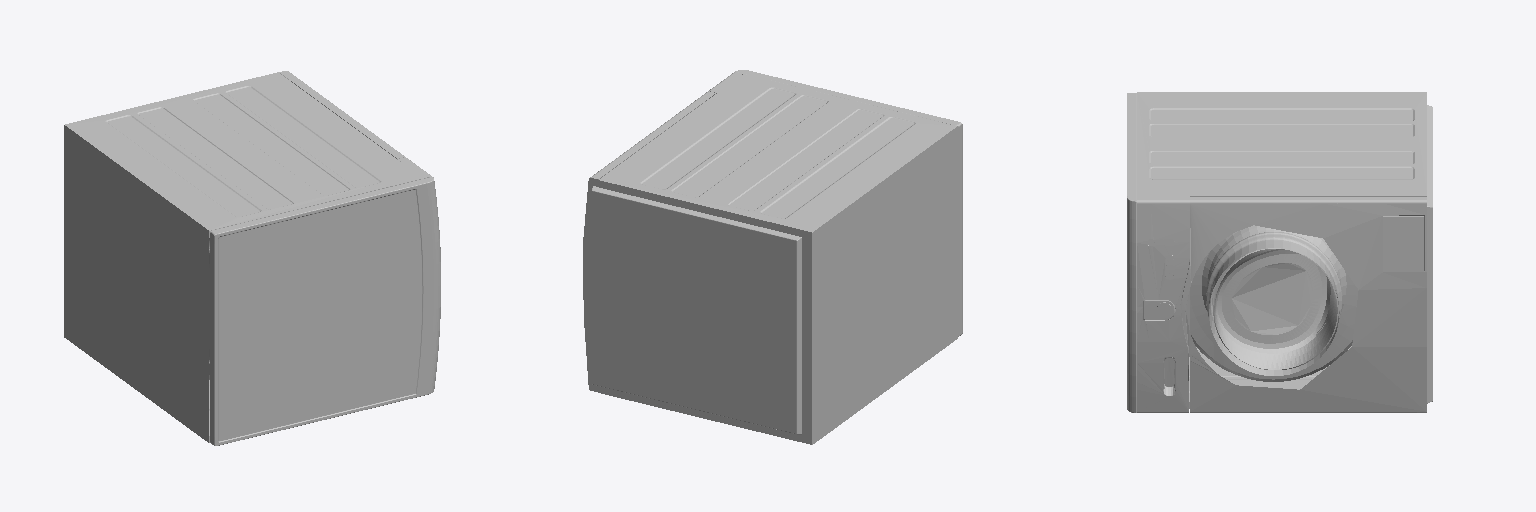
Rendered from washer.obj.
3 renders of one model, left to right at view 1: azimuth 30°, elevation 25°; view 2: azimuth 150°, elevation 25°; view 3: azimuth 270°, elevation 25°, orthographic.
Visible parts, largest first — view 1: Object001.001; view 2: Object001.001; view 3: Object001.001.
Boxes of the visible parts, x1=… form: Object001.001: x1=64, y1=71, x2=440, y2=445; Object001.001: x1=583, y1=70, x2=962, y2=444; Object001.001: x1=1127, y1=92, x2=1432, y2=412.
Size of the model in its own units: 1.01 by 0.8721 by 1.14.